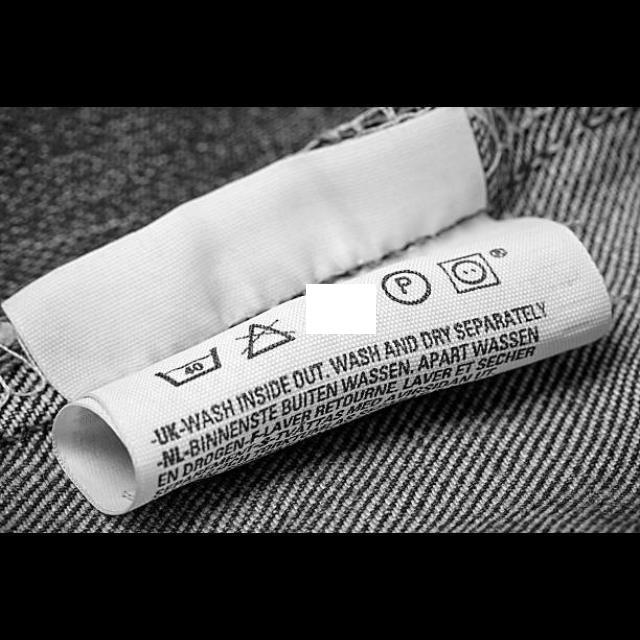40C: (153, 346, 225, 392)
DN_bleach: (232, 316, 298, 362)
normal_dry_clean_solvents: (378, 264, 436, 312)
tumble_dry_medium: (434, 250, 504, 298)
